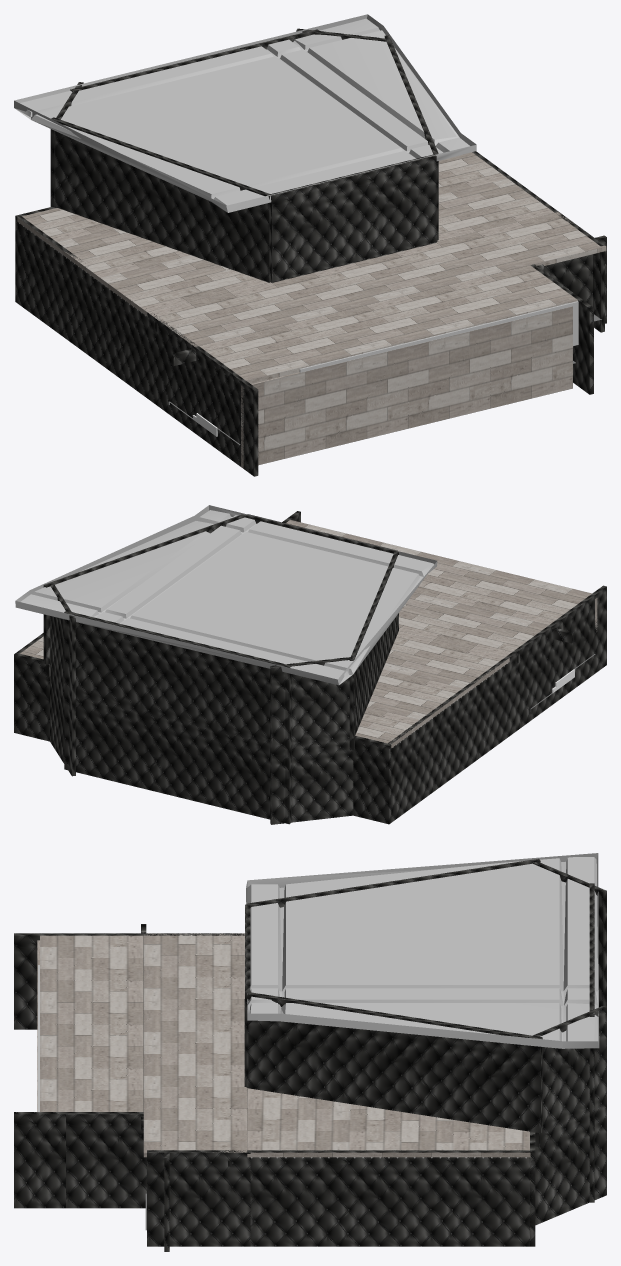
Rendered from Structure.fbx.
The picture shows the model from 3 angles, top to bottom: view 1: azimuth 30°, elevation 25°; view 2: azimuth 150°, elevation 25°; view 3: azimuth 270°, elevation 25°; orthographic projection. The views are drawn at different scales.
Visible parts, largest first — view 1: Structure; view 2: Structure; view 3: Structure.
Part boxes in pixels (x1=…): Structure: x1=14, y1=14, x2=606, y2=476; Structure: x1=14, y1=505, x2=606, y2=824; Structure: x1=14, y1=853, x2=606, y2=1251.
Bounding box in the file's own units: 2158 × 805 × 2287.
